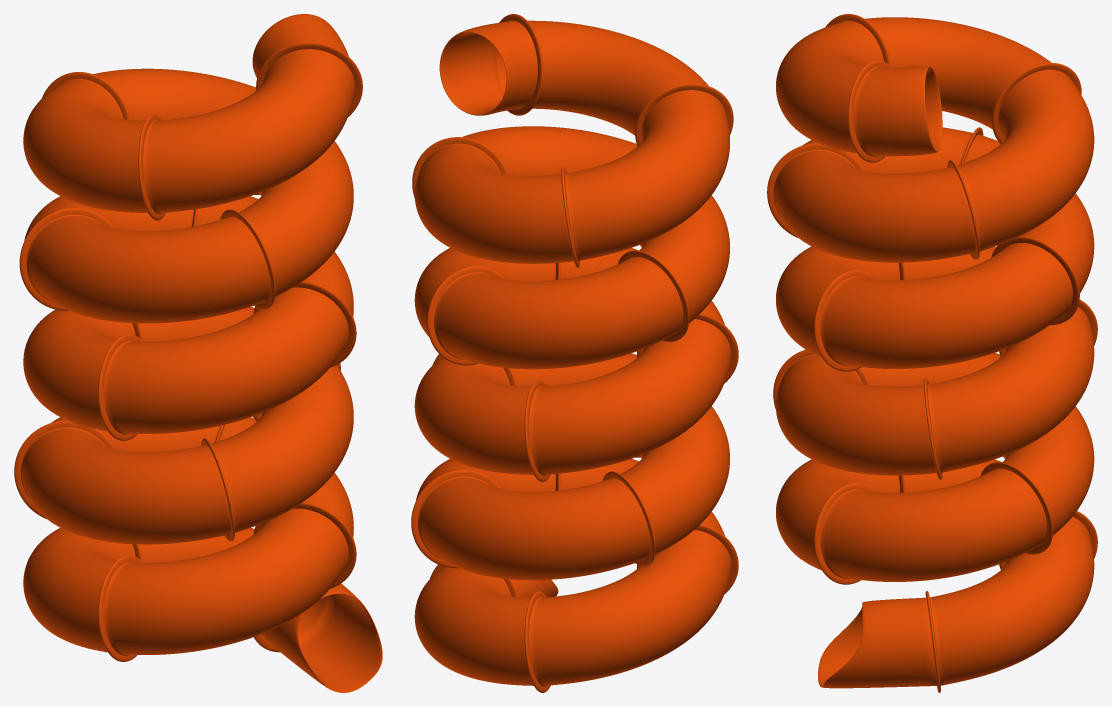
File: water_slide_spiral_5_turn.glb
3 renders of one model, left to right at view 1: azimuth 30°, elevation 25°; view 2: azimuth 150°, elevation 25°; view 3: azimuth 270°, elevation 25°, orthographic. The views are drawn at different scales.
Parts seen in each view (by area): view 1: Spiral.001; view 2: Spiral.001; view 3: Spiral.001.
Part boxes in pixels (x1,y1,x2,y2): Spiral.001: (14, 14, 382, 692); Spiral.001: (411, 14, 738, 692); Spiral.001: (767, 14, 1097, 692).
Size of the model in its own units: 6.97 by 14.4 by 6.99.
